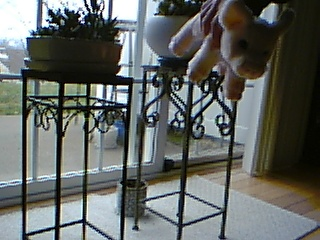piggy: (166, 1, 297, 101)
